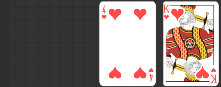4H: (148, 67, 155, 84)
